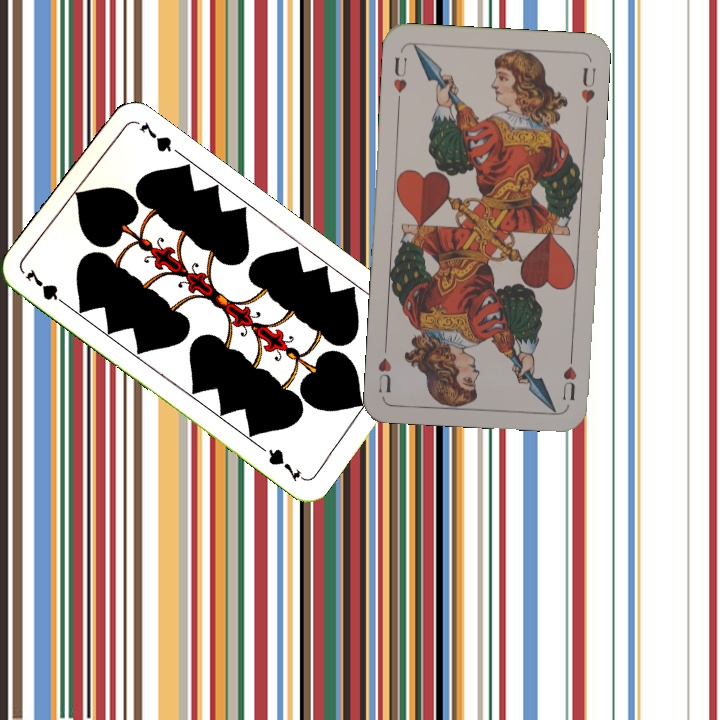G7: (21, 265, 72, 310)
HU: (558, 347, 579, 403), (389, 53, 410, 107)
